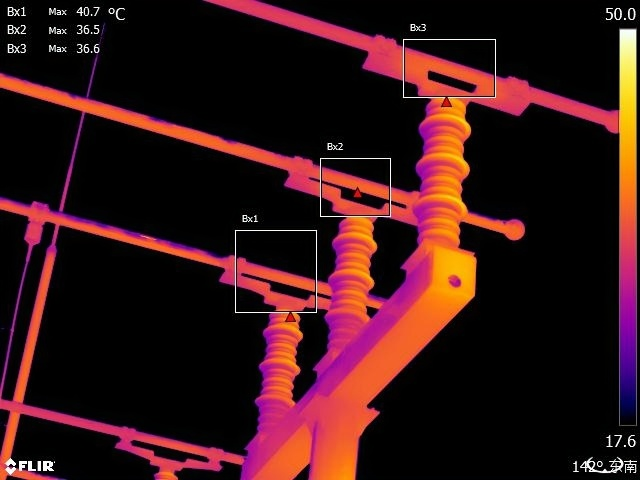clamp: (17, 187, 56, 256)
post insulator: (410, 90, 473, 255), (321, 208, 381, 356), (250, 301, 310, 422)
